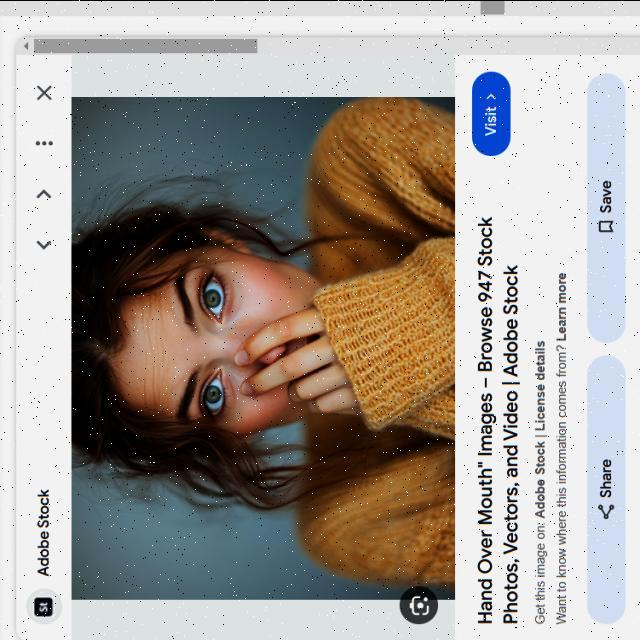face_with_hand: (111, 231, 349, 448)
